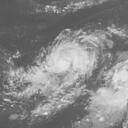cyclone: (5, 28, 124, 122)
